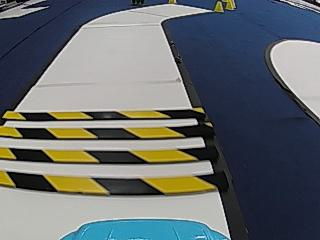bump: (3, 99, 218, 200)
